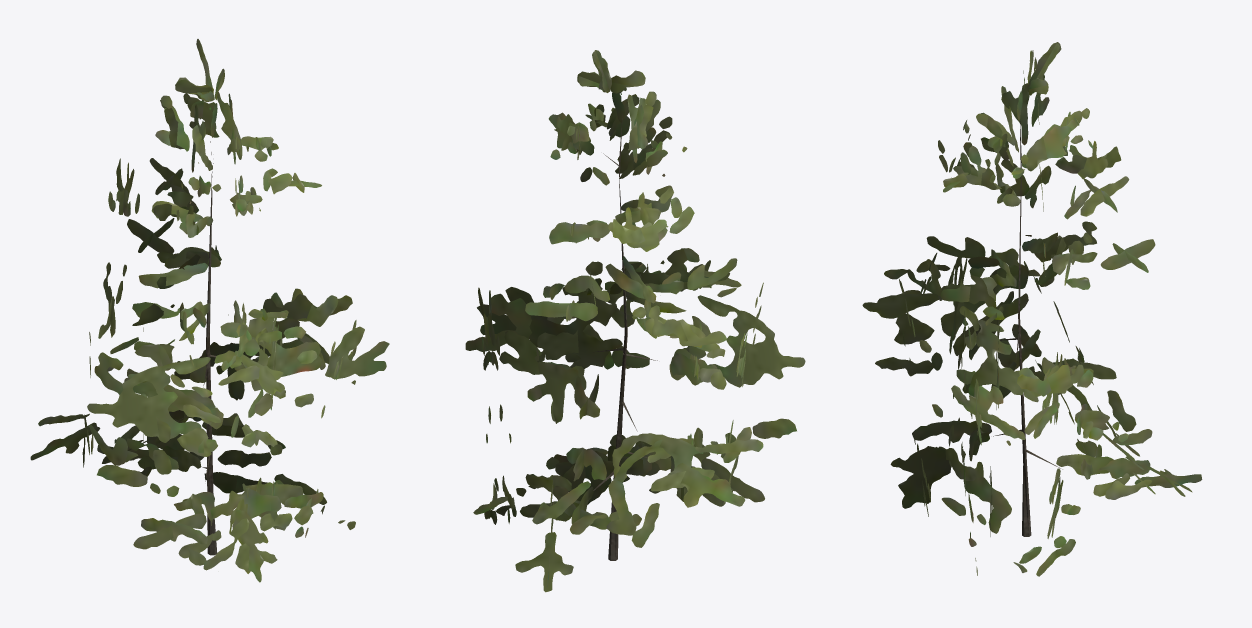
File: bush_fir_a_lod1.glb
The picture shows the model from 3 angles, left to right: view 1: azimuth 30°, elevation 25°; view 2: azimuth 150°, elevation 25°; view 3: azimuth 270°, elevation 25°; orthographic projection. The views are drawn at different scales.
Visible parts, largest first — view 1: bush_fir_a_lod1_needles, bush_fir_a_lod1_branches_fir_sapling_branches; view 2: bush_fir_a_lod1_needles, bush_fir_a_lod1_branches_fir_sapling_branches; view 3: bush_fir_a_lod1_needles, bush_fir_a_lod1_branches_fir_sapling_branches.
Boxes of the visible parts, x1=… form: bush_fir_a_lod1_needles: x1=30, y1=39, x2=389, y2=582; bush_fir_a_lod1_branches_fir_sapling_branches: x1=178, y1=130, x2=217, y2=555; bush_fir_a_lod1_needles: x1=465, y1=50, x2=805, y2=592; bush_fir_a_lod1_branches_fir_sapling_branches: x1=593, y1=114, x2=657, y2=560; bush_fir_a_lod1_needles: x1=862, y1=42, x2=1202, y2=576; bush_fir_a_lod1_branches_fir_sapling_branches: x1=993, y1=120, x2=1062, y2=536.
Bounding box in the file's own units: 0.9772 × 1.37 × 0.9278.
2 materials, 2 textured.
